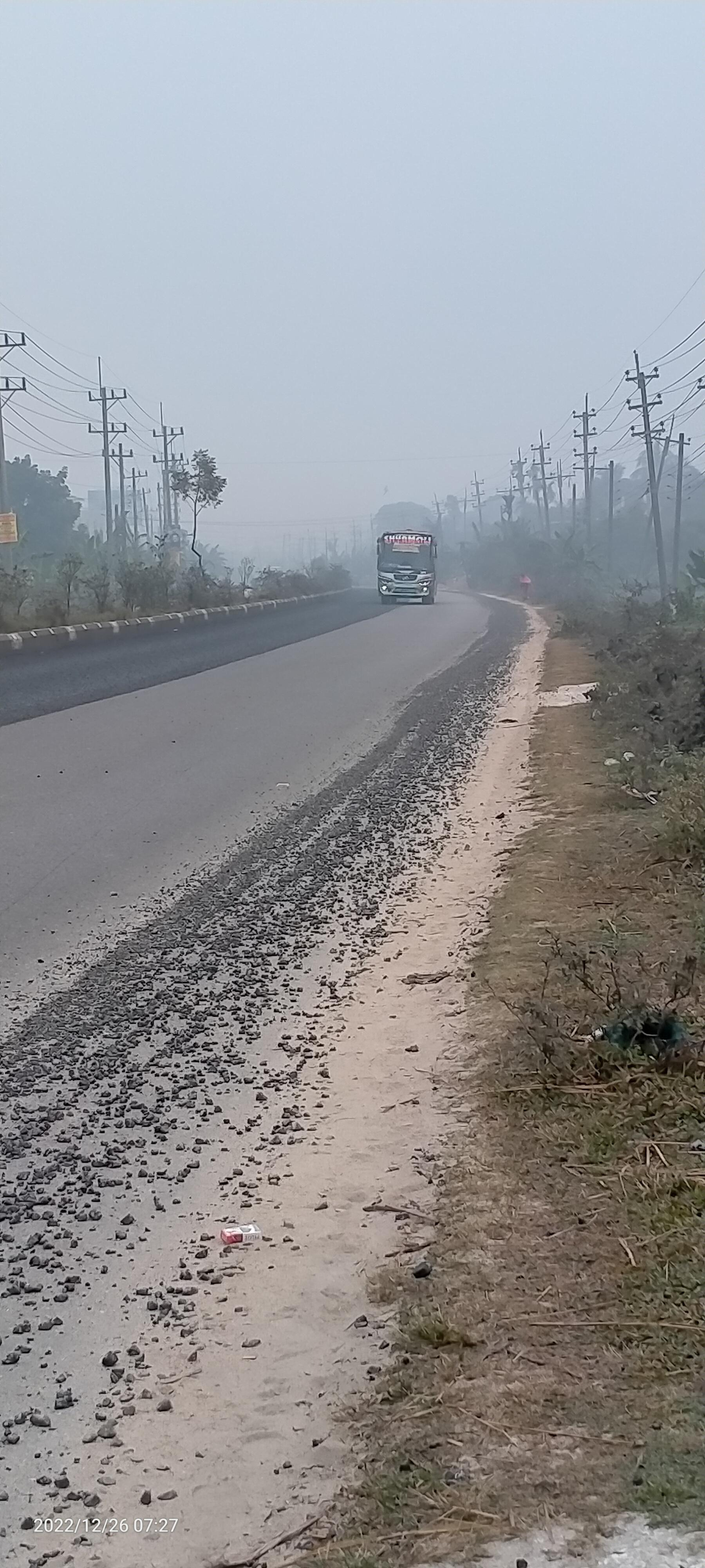Bus: (369, 517, 445, 624)
